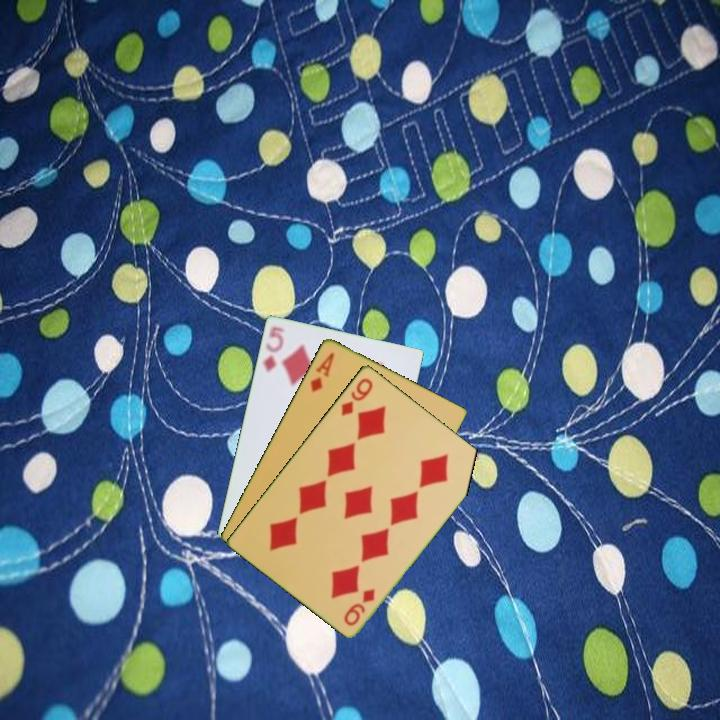5d: (259, 323, 287, 375)
9d: (337, 374, 376, 418), (340, 585, 378, 629)
Ad: (306, 348, 337, 395)
